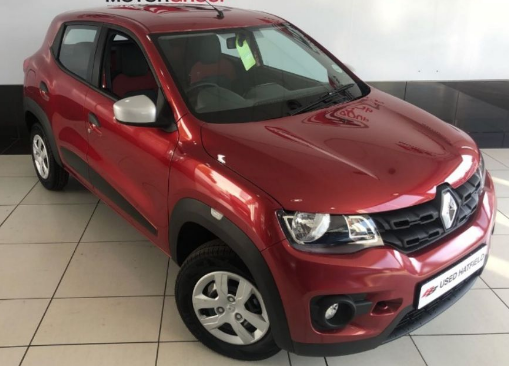car: (22, 1, 498, 366)
